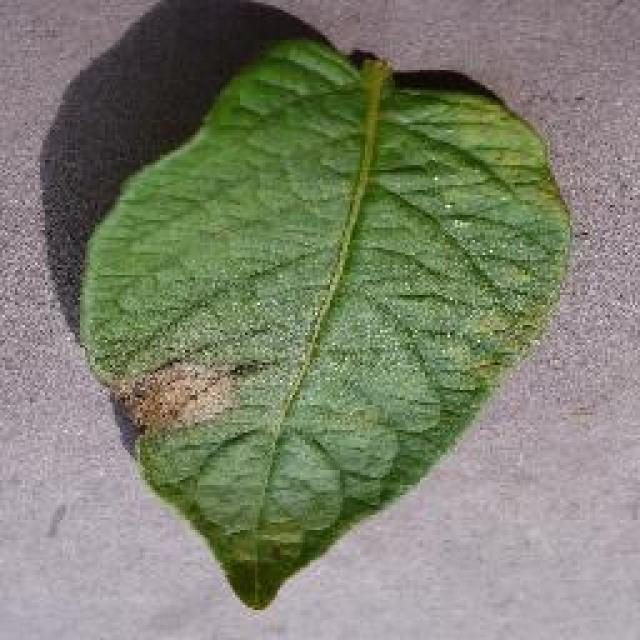Potato___Late_blight: (73, 31, 577, 618)
